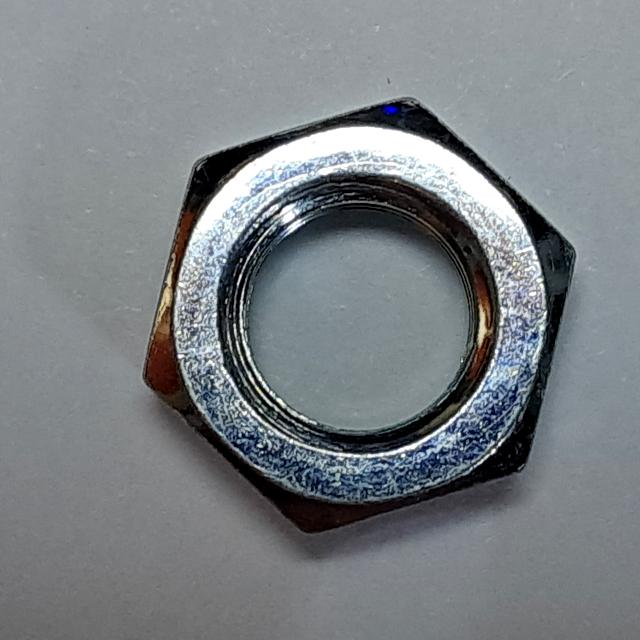Excellent: (124, 84, 588, 551)
